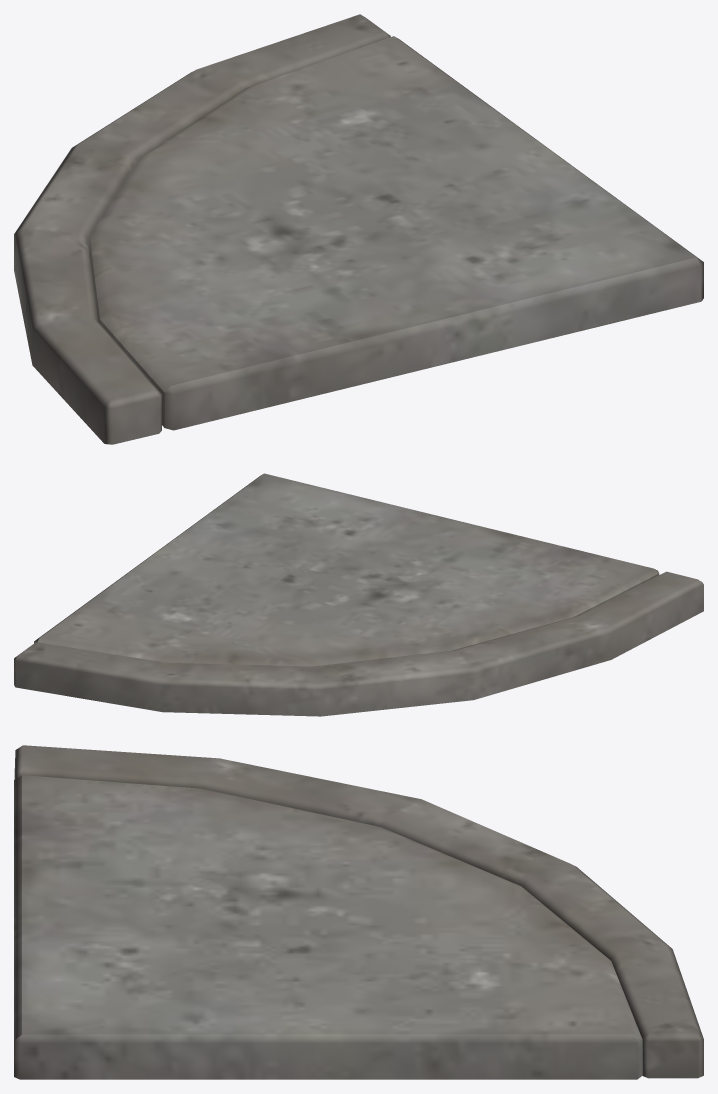
File: SidewalkCornerSmall.glb
3 renders of one model, top to bottom at view 1: azimuth 30°, elevation 25°; view 2: azimuth 150°, elevation 25°; view 3: azimuth 270°, elevation 25°, orthographic. The views are drawn at different scales.
Parts seen in each view (by area): view 1: SidewalkCurb_Small4_SidewalkMat_0; view 2: SidewalkCurb_Small4_SidewalkMat_0; view 3: SidewalkCurb_Small4_SidewalkMat_0.
Part boxes in pixels (x1,y1,x2,y2): SidewalkCurb_Small4_SidewalkMat_0: (14, 14, 703, 444); SidewalkCurb_Small4_SidewalkMat_0: (14, 473, 703, 716); SidewalkCurb_Small4_SidewalkMat_0: (14, 745, 703, 1079).
Size of the model in its own units: 2.24 by 0.1494 by 2.21.
1 material, 1 textured.
